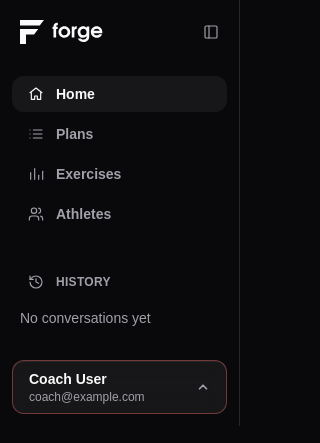
Test: Sidebar › collapses to icon-only nav and profile chevron
This screenshot has width=320, height=443.
Click the button named "Collapse sidebar" at (211, 32), box [195,16,227,48]
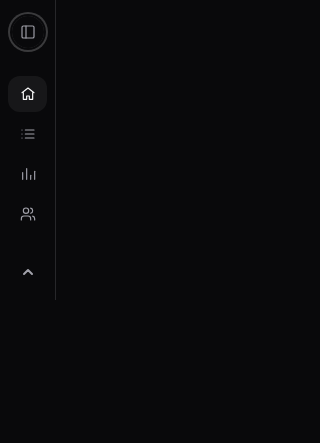
Check: the picture "Forge" is gone
Check: the text "Coach User" is gone
Check: the button named "Expand sidebar" is shown, box [12,16,44,48]
